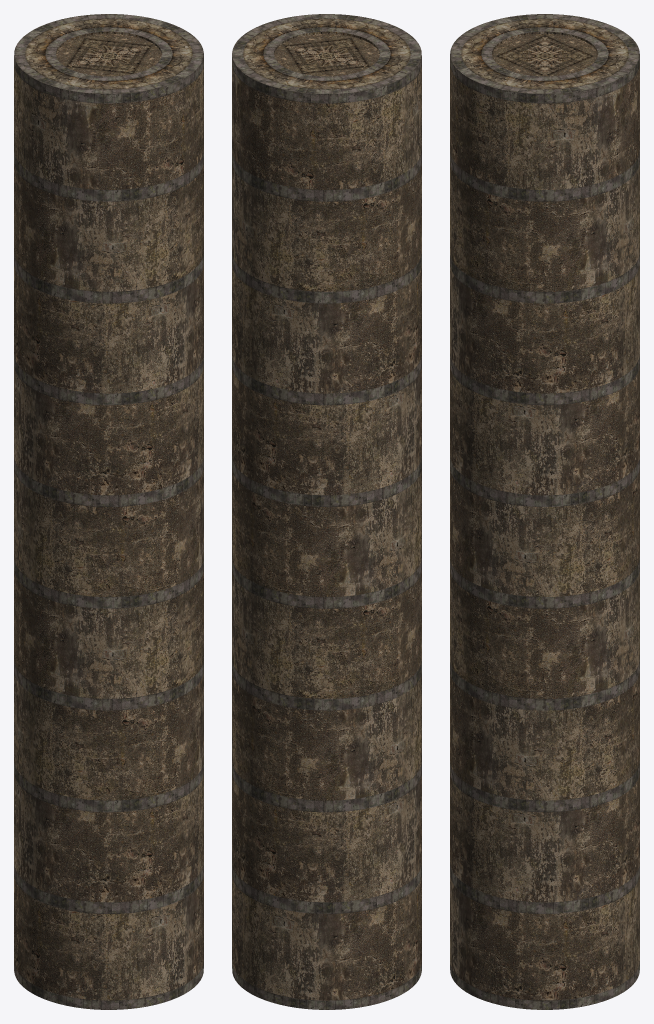
File: materials_5_pillar_fat_4.fbx
3 views of the same model, side by side, from view 1: azimuth 30°, elevation 25°; view 2: azimuth 150°, elevation 25°; view 3: azimuth 270°, elevation 25° (orthographic).
Parts seen in each view (by area): view 1: materials_5_pillar_fat_4; view 2: materials_5_pillar_fat_4; view 3: materials_5_pillar_fat_4.
Part boxes in pixels (box(x1,y1,x2,y2)): materials_5_pillar_fat_4: box(14, 14, 203, 1009); materials_5_pillar_fat_4: box(232, 14, 421, 1009); materials_5_pillar_fat_4: box(450, 14, 639, 1009).
Bounding box in the file's own units: 135 × 717 × 135.
